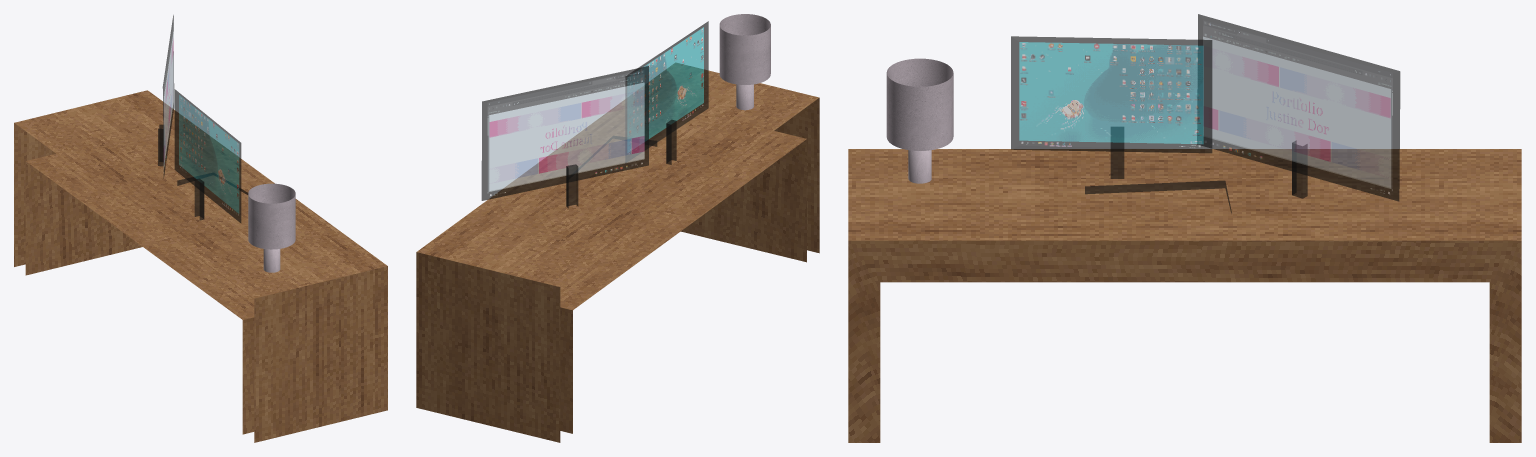
File: Bureau.glb
The picture shows the model from 3 angles, left to right: view 1: azimuth 30°, elevation 25°; view 2: azimuth 150°, elevation 25°; view 3: azimuth 270°, elevation 25°; orthographic projection. The views are drawn at different scales.
Visible parts, largest first — view 1: Bureau, Computer, Lamp; view 2: Bureau, Computer, Lamp; view 3: Bureau, Computer, Lamp.
Boxes of the visible parts, x1,y1,x2,y2 form: Bureau: [14, 90, 387, 442]; Computer: [158, 15, 248, 222]; Lamp: [248, 183, 295, 272]; Bureau: [416, 62, 819, 442]; Computer: [481, 21, 708, 208]; Lamp: [719, 14, 770, 110]; Bureau: [848, 149, 1521, 442]; Computer: [1011, 14, 1400, 213]; Lamp: [886, 58, 953, 183].
Size of the model in its own units: 1.75 by 3.22 by 5.46.
Materials: 3 (3 with a texture image).
